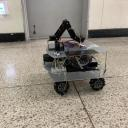cart: (42, 40, 108, 94)
